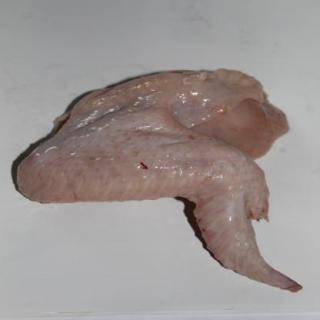Ayam: (18, 70, 304, 294)
